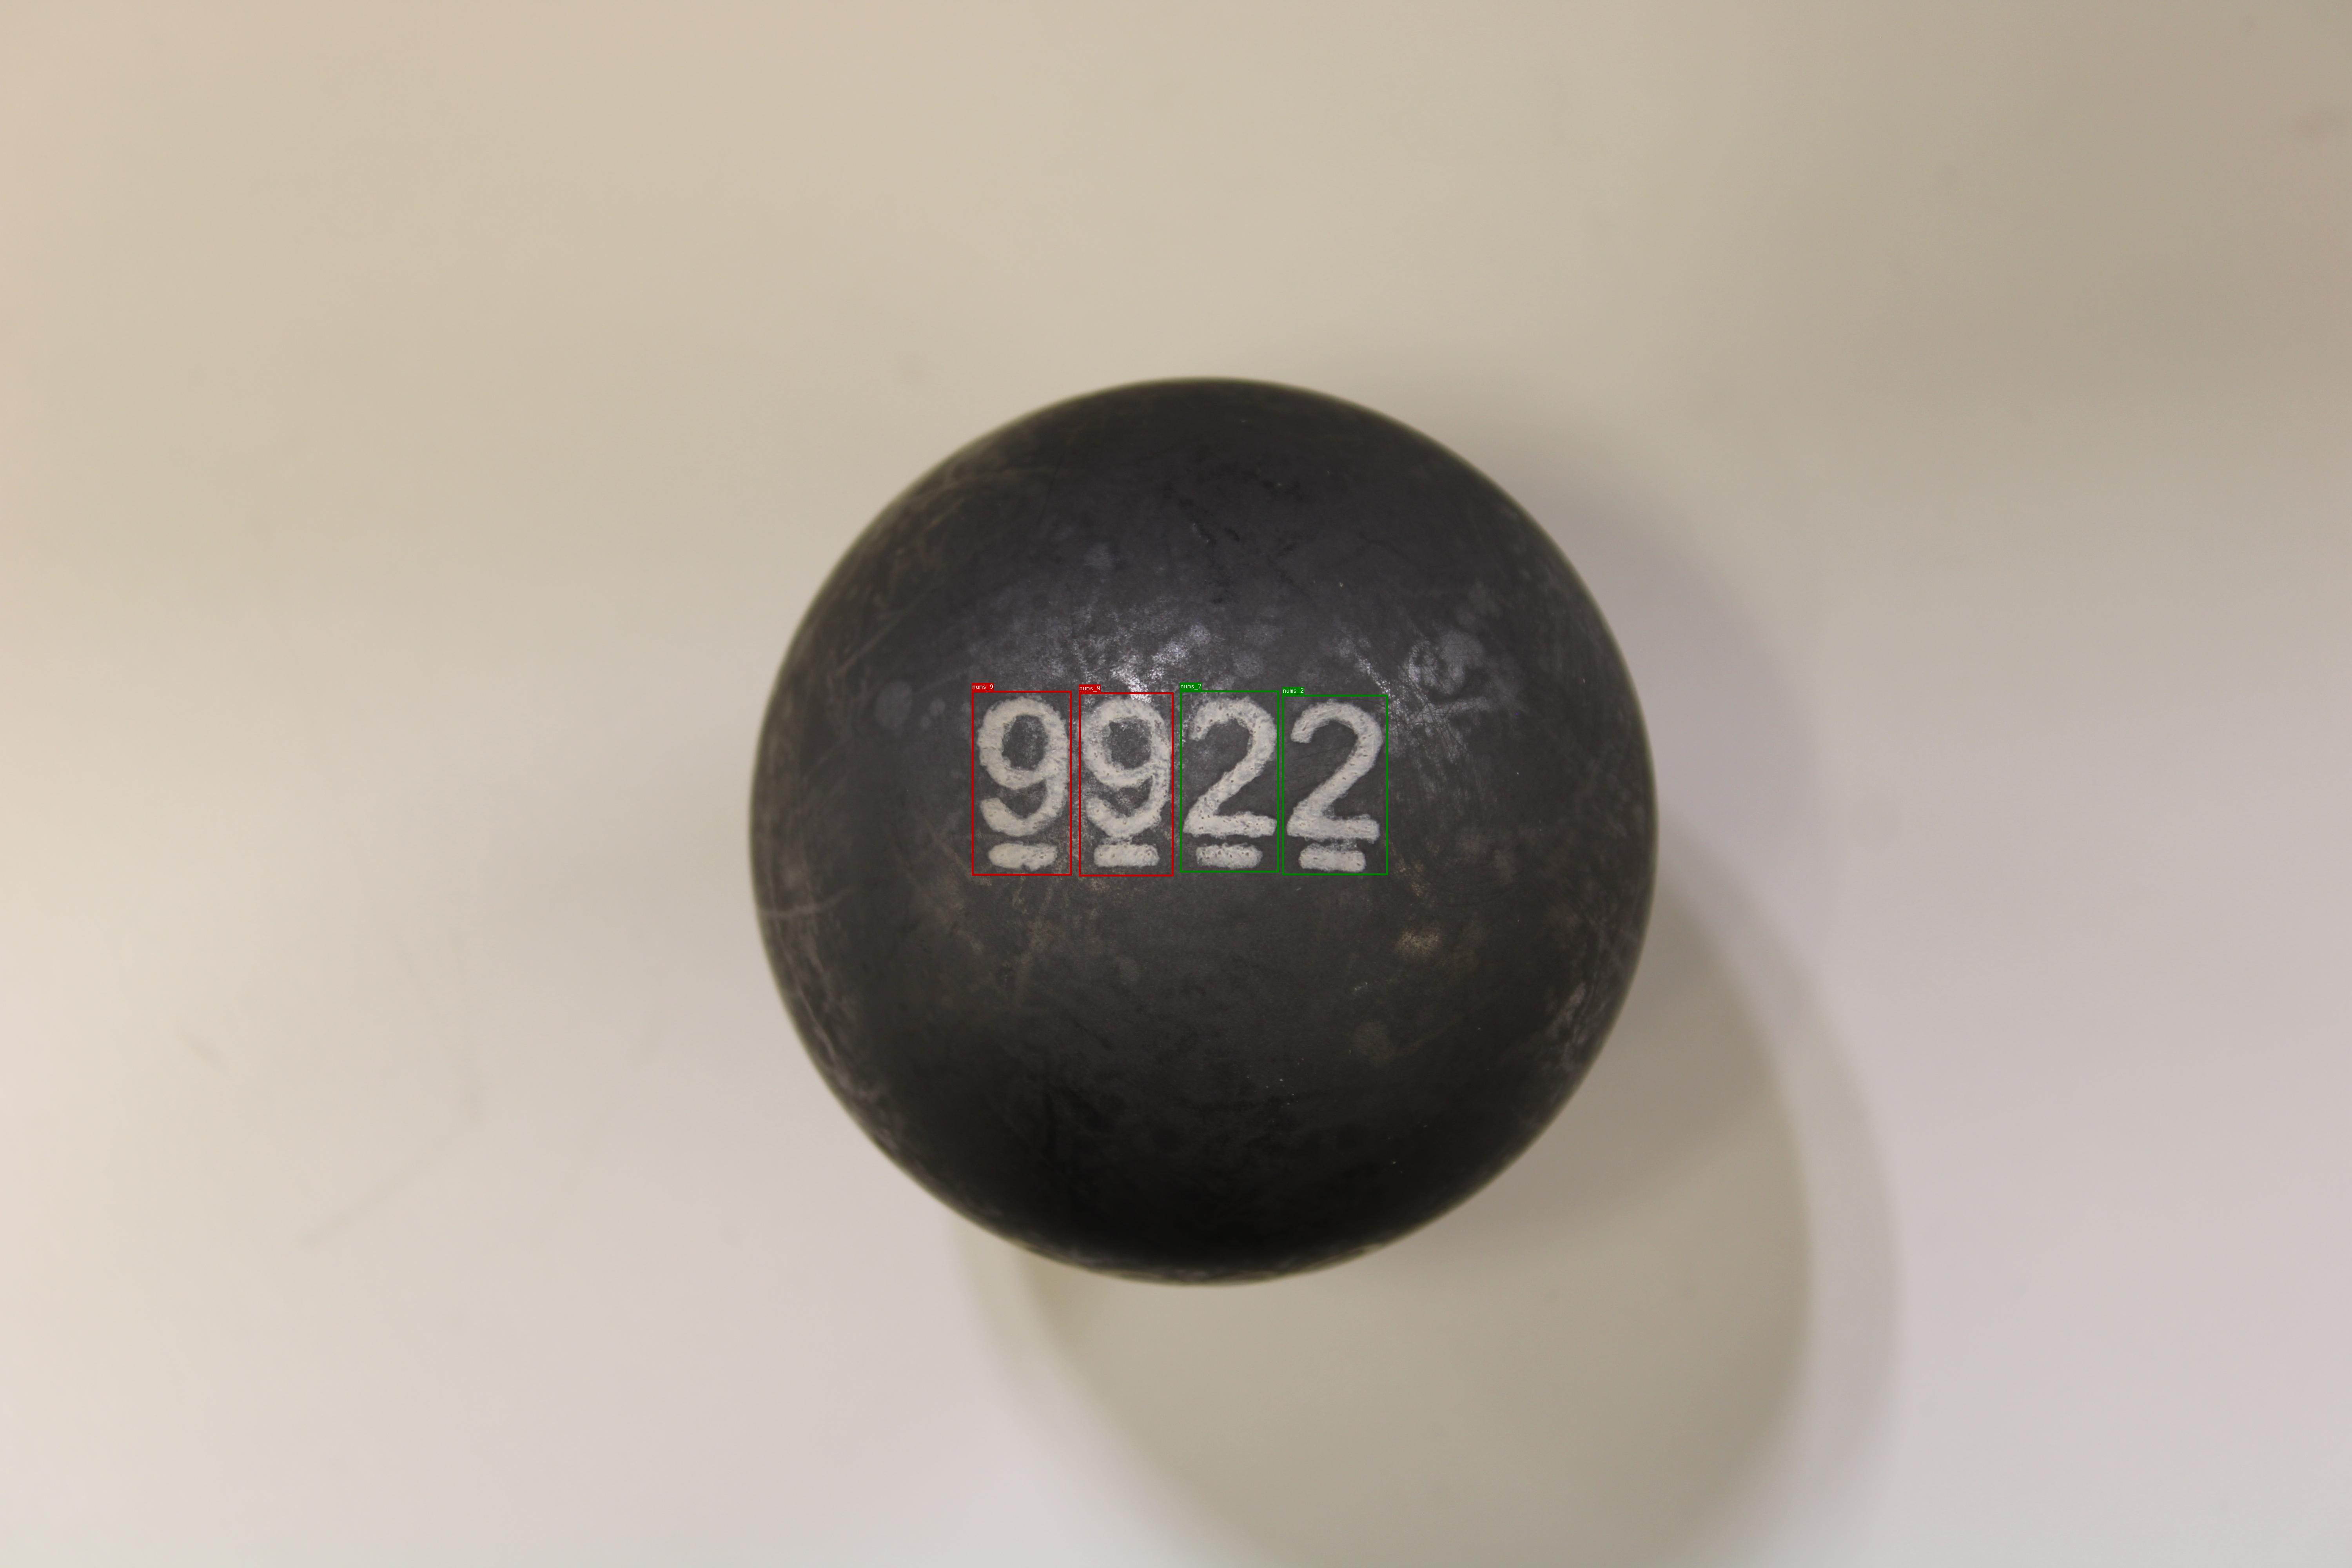nums_2: (1283, 695, 1388, 875), (1179, 690, 1279, 872)
nums_9: (971, 691, 1071, 875), (1078, 693, 1172, 877)
